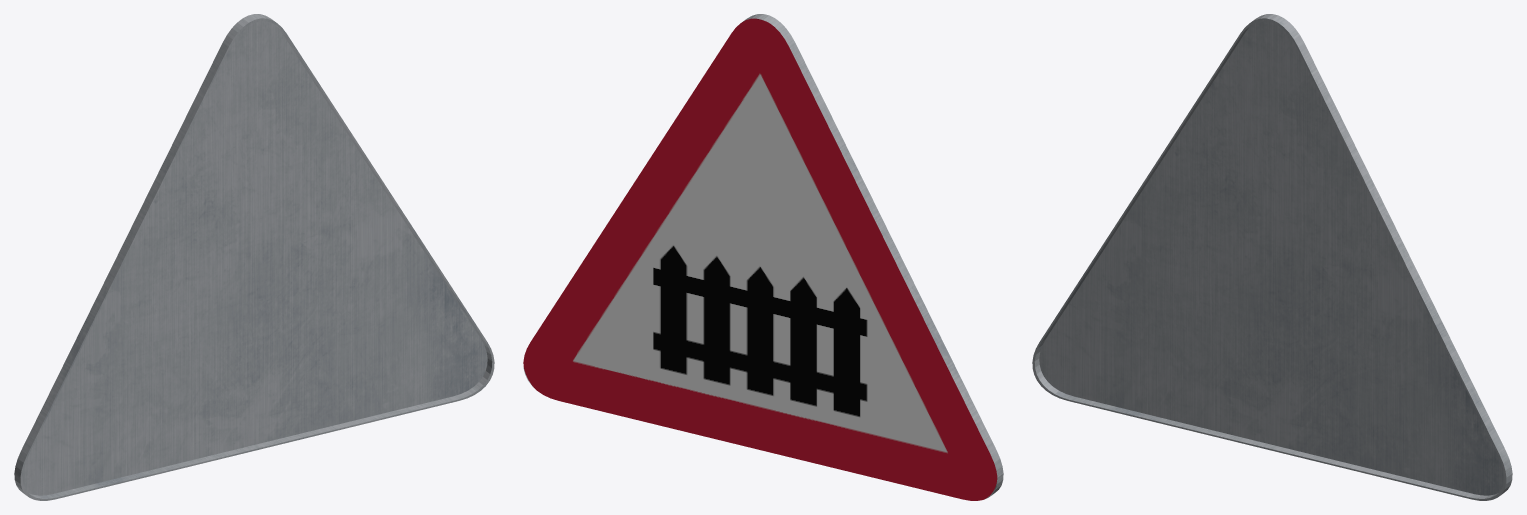
File: Railway_crossings_with_barriers.fbx
3 renders of one model, left to right at view 1: azimuth 30°, elevation 25°; view 2: azimuth 150°, elevation 25°; view 3: azimuth 330°, elevation 25°, orthographic.
Parts seen in each view (by area): view 1: Railway crossings with barriers; view 2: Railway crossings with barriers; view 3: Railway crossings with barriers.
Part boxes in pixels (box(x1,y1,x2,y2)): Railway crossings with barriers: box(14, 14, 494, 500); Railway crossings with barriers: box(523, 14, 1003, 500); Railway crossings with barriers: box(1032, 14, 1512, 500).
Bounding box in the file's own units: 0.02 × 0.9002 × 0.7821.
